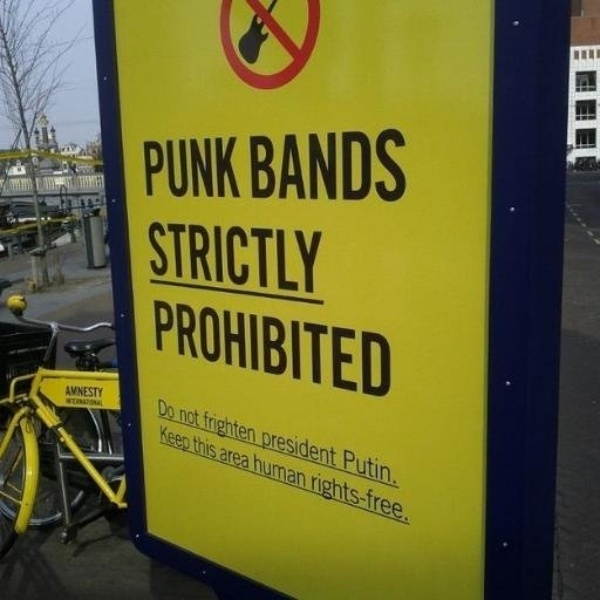text: (161, 298, 176, 399), (177, 298, 192, 399), (193, 298, 208, 399), (209, 298, 224, 399), (225, 298, 240, 399), (241, 298, 256, 399), (257, 298, 272, 399), (273, 298, 288, 399), (289, 298, 304, 399), (305, 298, 320, 399), (321, 298, 336, 399), (337, 298, 352, 399), (353, 298, 368, 399), (369, 298, 384, 399), (257, 128, 272, 202), (273, 128, 288, 202), (289, 128, 304, 202), (305, 128, 320, 202), (321, 128, 336, 202), (337, 128, 352, 202), (353, 128, 368, 202), (369, 128, 384, 202), (385, 128, 400, 202), (161, 221, 176, 295), (177, 221, 192, 295), (193, 221, 208, 295), (209, 221, 224, 295), (225, 221, 240, 295), (241, 221, 256, 295), (257, 221, 272, 295), (273, 221, 288, 295), (289, 221, 304, 295), (305, 221, 320, 295), (225, 135, 241, 199), (147, 221, 160, 295), (145, 135, 160, 199), (161, 135, 176, 199), (177, 135, 192, 199), (193, 135, 208, 199), (209, 135, 224, 199), (321, 469, 336, 527), (337, 469, 352, 527), (353, 469, 368, 527), (369, 469, 384, 527), (385, 469, 400, 527), (153, 298, 160, 399), (385, 298, 392, 399), (273, 426, 288, 470), (289, 426, 304, 470), (305, 426, 320, 470), (321, 426, 336, 470), (353, 447, 368, 488), (369, 447, 384, 488), (385, 447, 400, 488), (209, 407, 224, 447), (225, 407, 240, 447), (241, 407, 256, 447), (257, 451, 272, 490), (273, 451, 288, 490), (289, 451, 304, 490), (310, 469, 320, 527), (249, 128, 256, 202), (401, 128, 408, 202), (177, 422, 193, 454), (261, 426, 272, 470), (161, 422, 176, 454), (401, 469, 409, 527), (342, 447, 352, 488), (193, 434, 208, 461), (225, 446, 240, 473), (161, 397, 177, 421), (179, 407, 192, 431), (241, 446, 251, 473), (209, 434, 218, 461), (65, 384, 80, 400), (81, 384, 96, 400), (193, 407, 203, 431), (202, 407, 208, 447), (65, 397, 80, 408), (81, 397, 96, 408), (252, 451, 256, 490), (305, 451, 309, 490), (97, 384, 105, 400), (142, 135, 144, 199), (97, 397, 106, 408), (156, 397, 160, 421), (337, 426, 339, 470), (221, 446, 224, 473), (321, 221, 322, 295), (257, 407, 258, 447)
